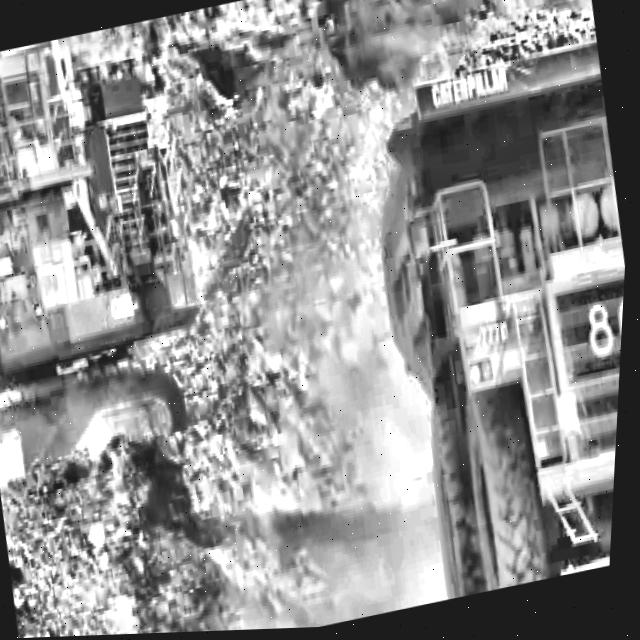dump_truck: (296, 0, 640, 616)
excavator: (0, 10, 277, 559)
